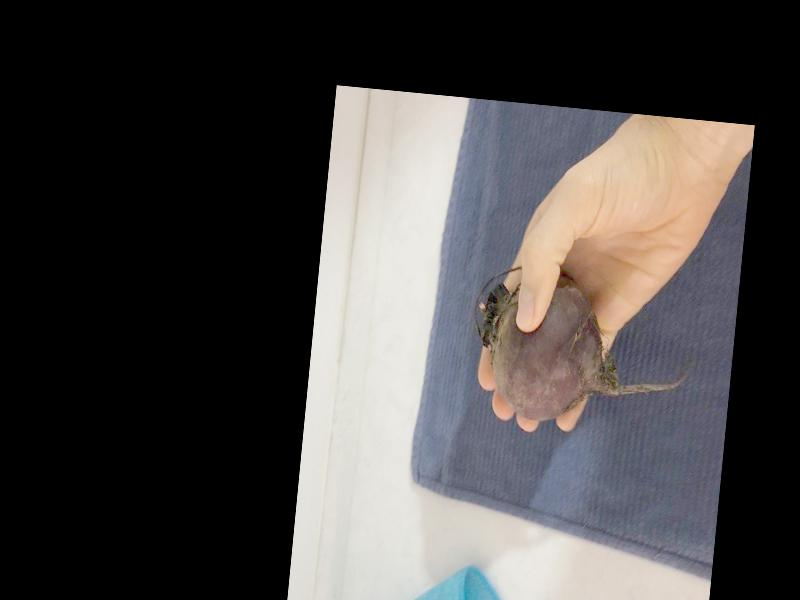Beet: (466, 261, 695, 433)
